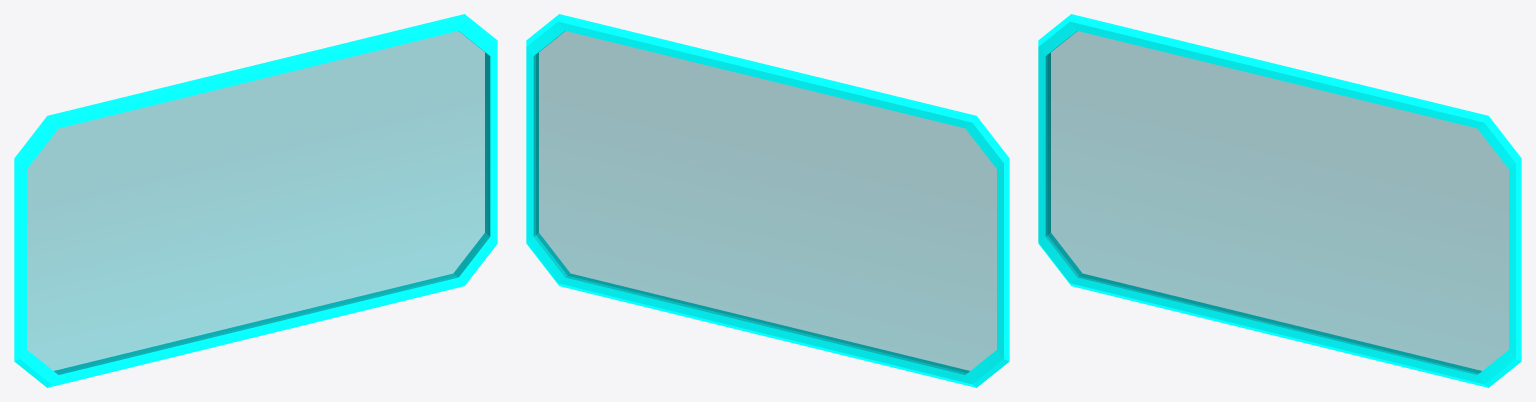
File: Sign_Square.glb
The picture shows the model from 3 angles, left to right: view 1: azimuth 30°, elevation 25°; view 2: azimuth 150°, elevation 25°; view 3: azimuth 330°, elevation 25°; orthographic projection.
Visible parts, largest first — view 1: SciFi_SquareSign; view 2: SciFi_SquareSign; view 3: SciFi_SquareSign.
Part boxes in pixels (box(x1,y1,x2,y2)): SciFi_SquareSign: box(14, 14, 497, 387); SciFi_SquareSign: box(526, 14, 1009, 387); SciFi_SquareSign: box(1038, 14, 1521, 387).
Size of what is drawn, in the model's own units: 1.91 by 1.03 by 0.0374.
Materials: 2 (2 with a texture image).
